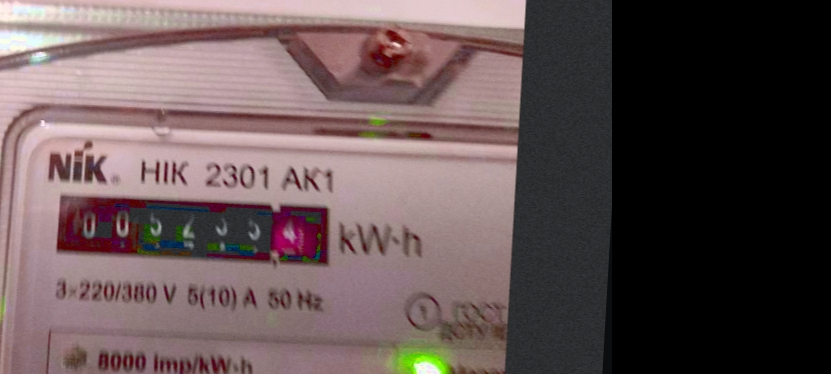0: (112, 203, 134, 237), (80, 205, 100, 237)
2: (178, 204, 201, 239)
3: (210, 204, 236, 238)
4: (279, 208, 303, 245)
5: (244, 205, 268, 242), (146, 203, 167, 237)
screen: (40, 174, 346, 278)
